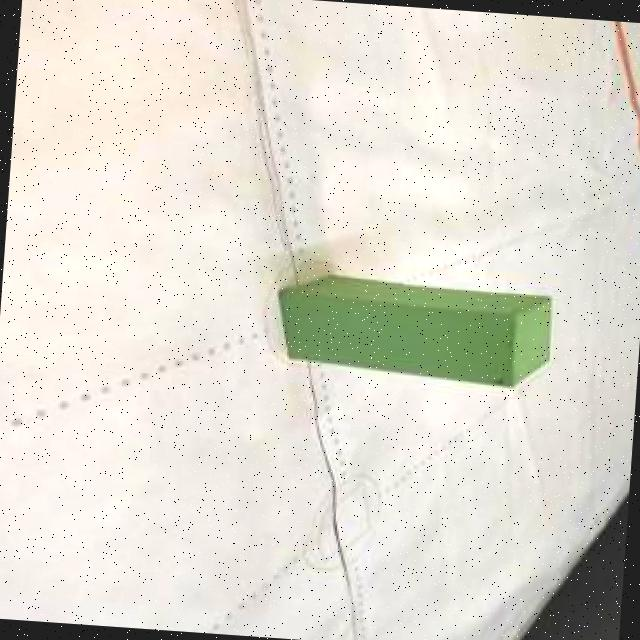greenbox: (276, 270, 554, 390)
